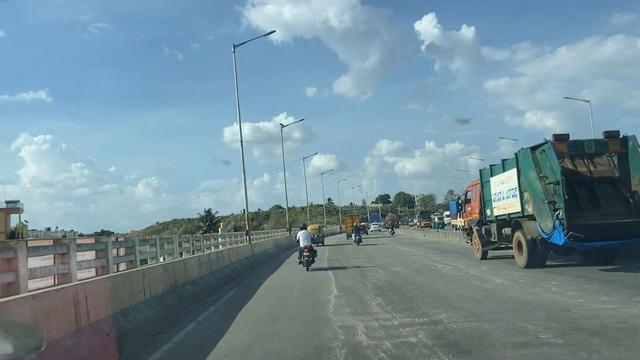HMV: (449, 129, 640, 278)
